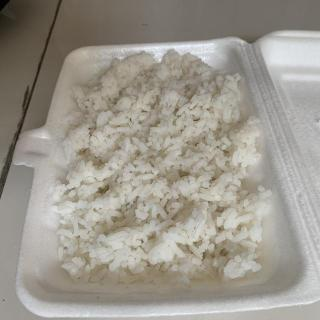Nasi: (63, 56, 263, 284)
